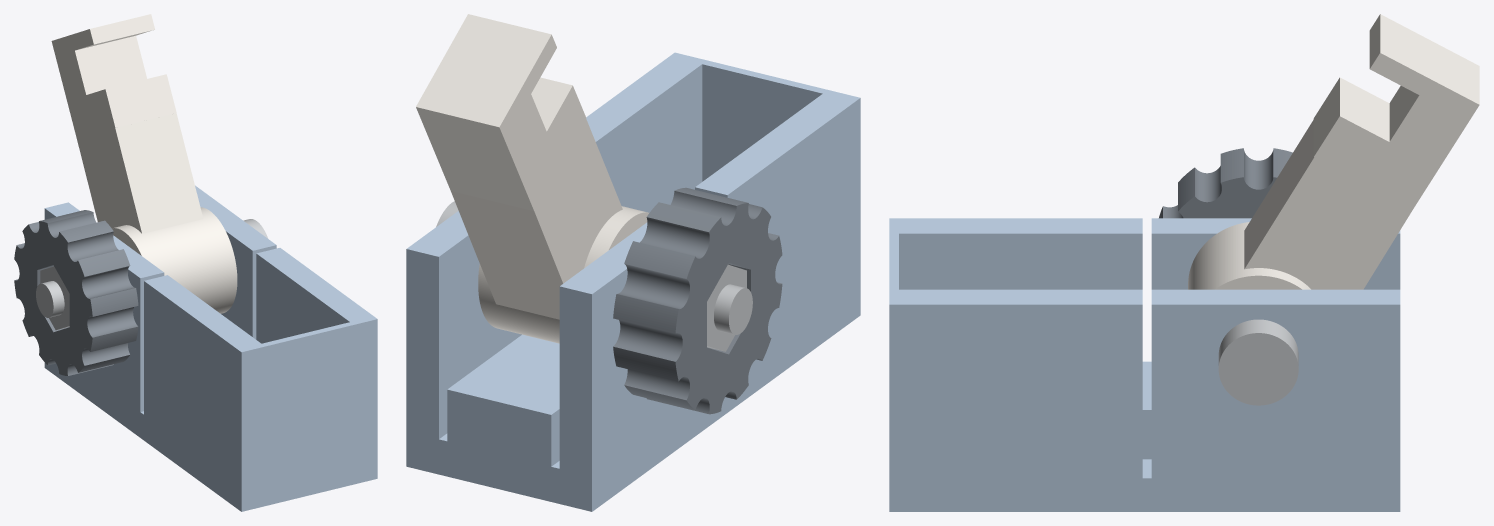
3 views of the same model, side by side, from view 1: azimuth 30°, elevation 25°; view 2: azimuth 150°, elevation 25°; view 3: azimuth 270°, elevation 25° (orthographic). The views are drawn at different scales.
Parts seen in each view (by area): view 1: connector, moving, knob, bolt; view 2: connector, moving, knob, bolt; view 3: connector, moving, bolt, knob.
Part boxes in pixels (box(x1,y1,x2,y2)): connector: box(44, 185, 377, 511); moving: box(51, 14, 237, 313); knob: box(14, 210, 138, 375); bolt: box(36, 219, 268, 330); connector: box(406, 52, 860, 511); moving: box(416, 14, 648, 343); knob: box(613, 187, 782, 414); bolt: box(436, 201, 752, 351); connector: box(889, 218, 1400, 511); moving: box(1188, 14, 1479, 289); bolt: box(1218, 319, 1298, 405); knob: box(1159, 148, 1292, 218).
Size of the model in its own units: 27.8 by 42.02 by 51.64.
